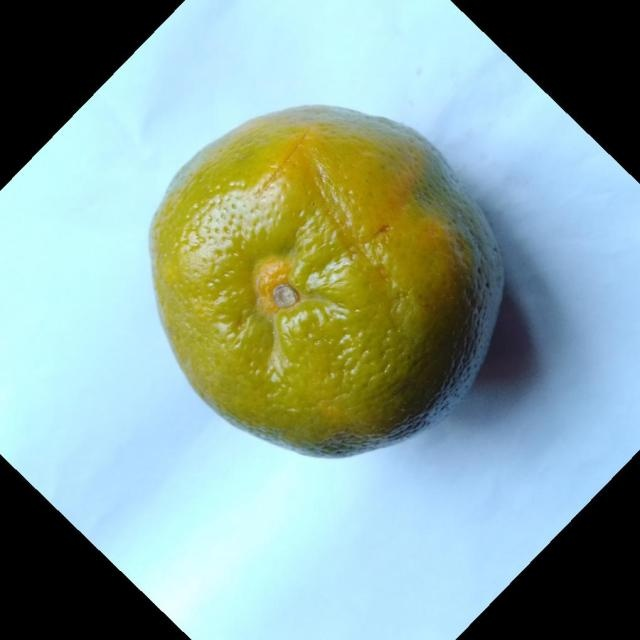agrume: (147, 103, 505, 460)
